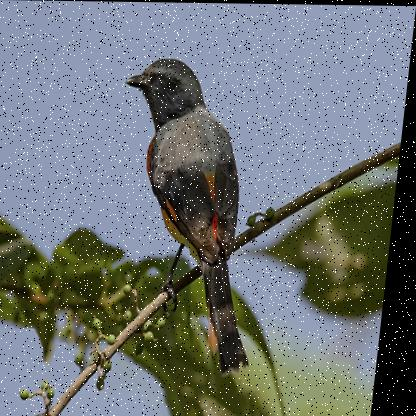Burung: (101, 57, 286, 376)
